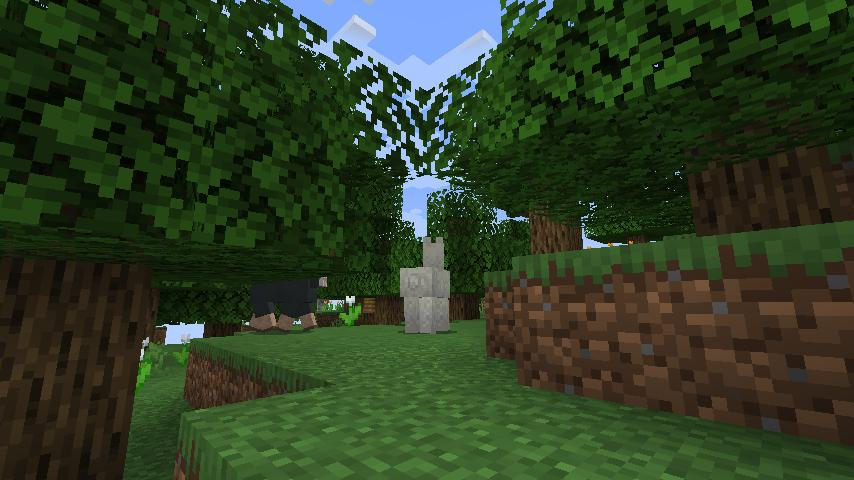llama: (397, 233, 456, 335)
sheep: (246, 271, 330, 337)
